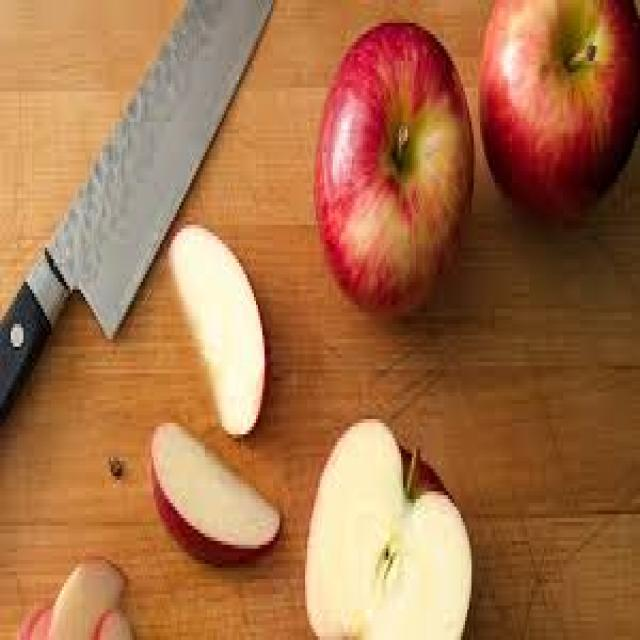Apple: (316, 20, 476, 308), (307, 419, 472, 640), (475, 0, 640, 217), (170, 226, 272, 436), (148, 423, 282, 565), (54, 548, 123, 640), (97, 600, 152, 640), (17, 594, 58, 640)
